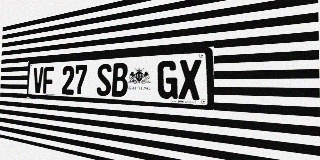2: (62, 65, 74, 95)
7: (74, 65, 87, 95)
B: (112, 63, 128, 97)
F: (43, 66, 54, 94)
G: (157, 60, 178, 99)
S: (96, 63, 112, 96)
V: (33, 67, 43, 93)
X: (178, 59, 201, 100)
